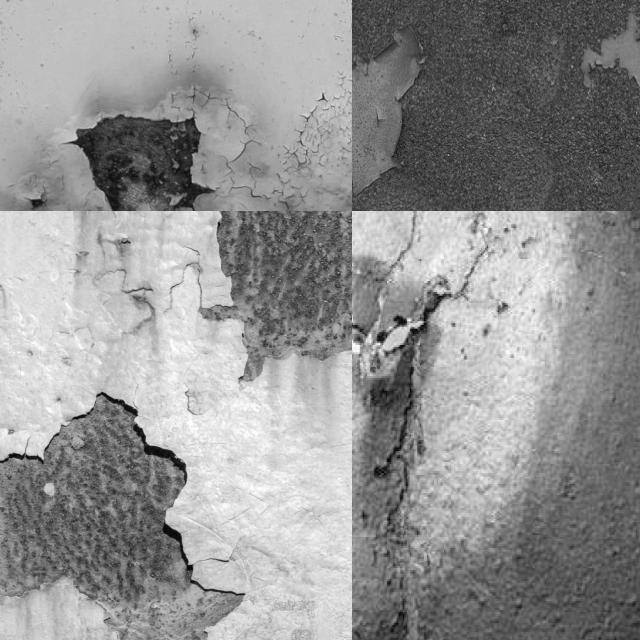Crack: (386, 336, 424, 640), (380, 211, 426, 305)
Pitting Corrosion: (0, 393, 244, 640), (202, 211, 352, 381), (80, 116, 194, 211)
